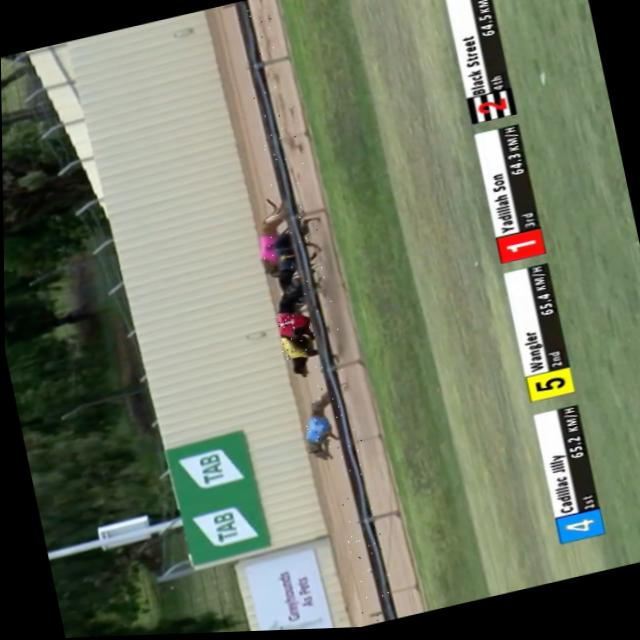dog_eight: (251, 233, 285, 266)
dog_five: (279, 334, 314, 361)
dog_four: (302, 413, 335, 445)
dog_one: (274, 309, 307, 336)
dog_seven: (272, 245, 303, 273)
rail: (233, 4, 397, 624)
